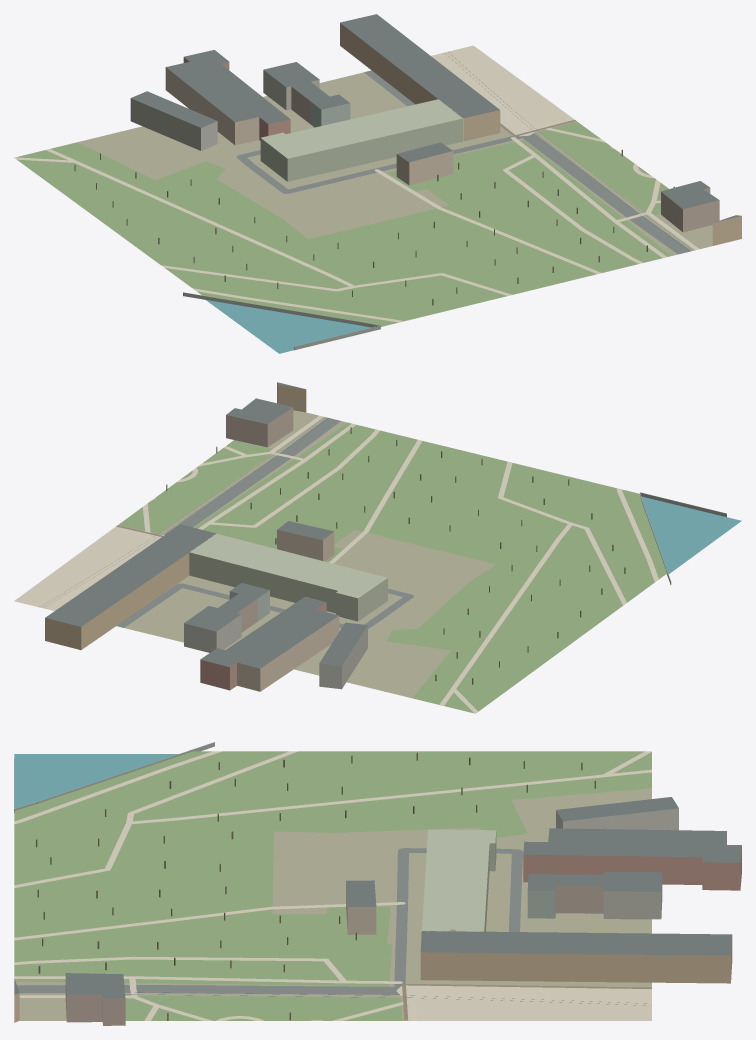
File: sector--1_0.glb
3 views of the same model, one above another, from view 1: azimuth 30°, elevation 25°; view 2: azimuth 150°, elevation 25°; view 3: azimuth 270°, elevation 25° (orthographic). The views are drawn at different scales.
Parts seen in each view (by area): view 1: -1:0-park, -1:0-ground, -1:0-facade, -1:0-roof, -1:0-paving, -1:0-masonry, -1:0-road, -1:0-water, -1:0-bank, -1:0-trunk; view 2: -1:0-park, -1:0-ground, -1:0-facade, -1:0-roof, -1:0-paving, -1:0-masonry, -1:0-water, -1:0-road, -1:0-trunk, -1:0-bank; view 3: -1:0-park, -1:0-ground, -1:0-facade, -1:0-roof, -1:0-paving, -1:0-masonry, -1:0-road, -1:0-water, -1:0-trunk, -1:0-bank.
Boxes of the visible parts, left/top/right/bottom form: -1:0-park: left=16, top=121, right=670, bottom=326; -1:0-ground: left=77, top=72, right=712, bottom=255; -1:0-facade: left=130, top=23, right=741, bottom=245; -1:0-roof: left=131, top=14, right=741, bottom=222; -1:0-paving: left=14, top=45, right=699, bottom=322; -1:0-masonry: left=260, top=99, right=463, bottom=181; -1:0-road: left=236, top=70, right=691, bottom=254; -1:0-water: left=206, top=300, right=370, bottom=353; -1:0-bank: left=183, top=292, right=380, bottom=350; -1:0-trunk: left=74, top=149, right=674, bottom=305; -1:0-park: left=118, top=422, right=666, bottom=713; -1:0-ground: left=26, top=410, right=495, bottom=698; -1:0-facade: left=45, top=382, right=367, bottom=691; -1:0-roof: left=45, top=382, right=367, bottom=668; -1:0-paving: left=14, top=415, right=658, bottom=713; -1:0-masonry: left=189, top=533, right=387, bottom=621; -1:0-water: left=641, top=496, right=741, bottom=573; -1:0-road: left=117, top=417, right=413, bottom=628; -1:0-trunk: left=166, top=427, right=625, bottom=684; -1:0-bank: left=640, top=492, right=726, bottom=584; -1:0-park: left=14, top=751, right=651, bottom=1020; -1:0-ground: left=16, top=788, right=651, bottom=1020; -1:0-facade: left=14, top=808, right=741, bottom=1025; -1:0-roof: left=14, top=797, right=741, bottom=998; -1:0-paving: left=14, top=751, right=651, bottom=1020; -1:0-masonry: left=422, top=829, right=496, bottom=931; -1:0-road: left=17, top=848, right=522, bottom=994; -1:0-water: left=14, top=754, right=178, bottom=808; -1:0-trunk: left=36, top=752, right=595, bottom=1020; -1:0-bank: left=14, top=742, right=214, bottom=812.
Bounding box in the file's own units: 209 × 11.2 × 228.
